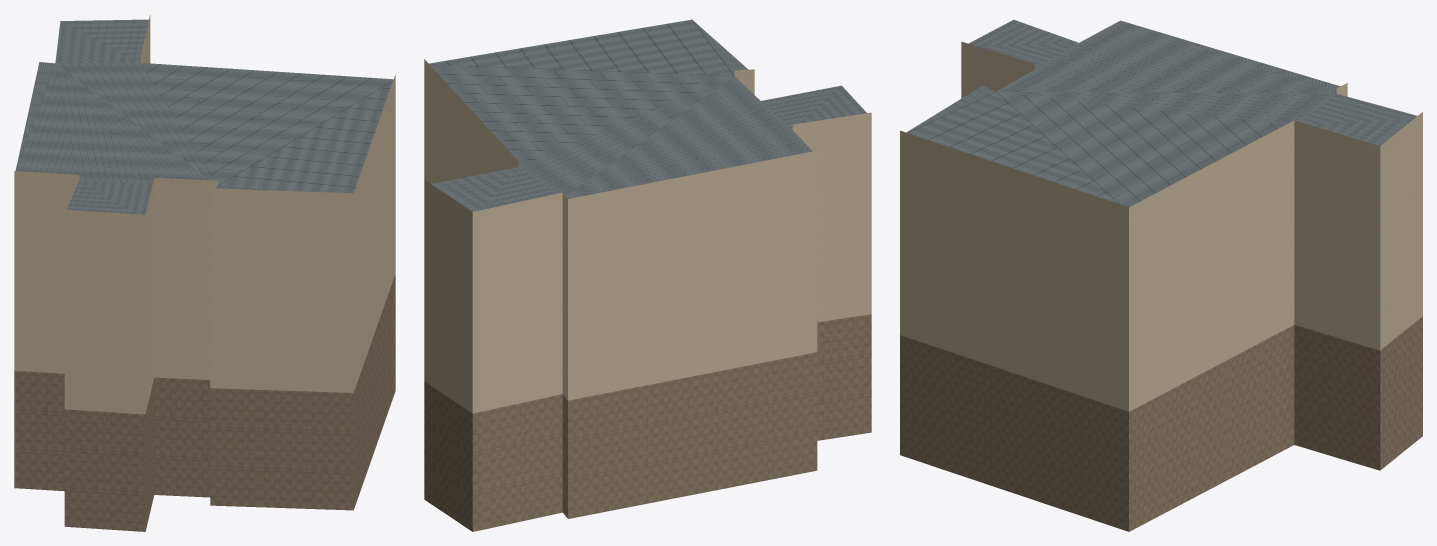
The model's file is bld_c13_36_414.gltf.
3 views of the same model, side by side, from view 1: azimuth 30°, elevation 25°; view 2: azimuth 150°, elevation 25°; view 3: azimuth 270°, elevation 25° (orthographic). The views are drawn at different scales.
Parts seen in each view (by area): view 1: bld_c13_36_414; view 2: bld_c13_36_414; view 3: bld_c13_36_414.
Boxes of the visible parts, box(x1,y1,x2,y2) form: bld_c13_36_414: box(14, 14, 395, 531); bld_c13_36_414: box(424, 19, 871, 531); bld_c13_36_414: box(900, 19, 1422, 531).
Bounding box in the file's own units: 17.61 × 13.78 × 20.11.
Materials: 4 (4 with a texture image).
